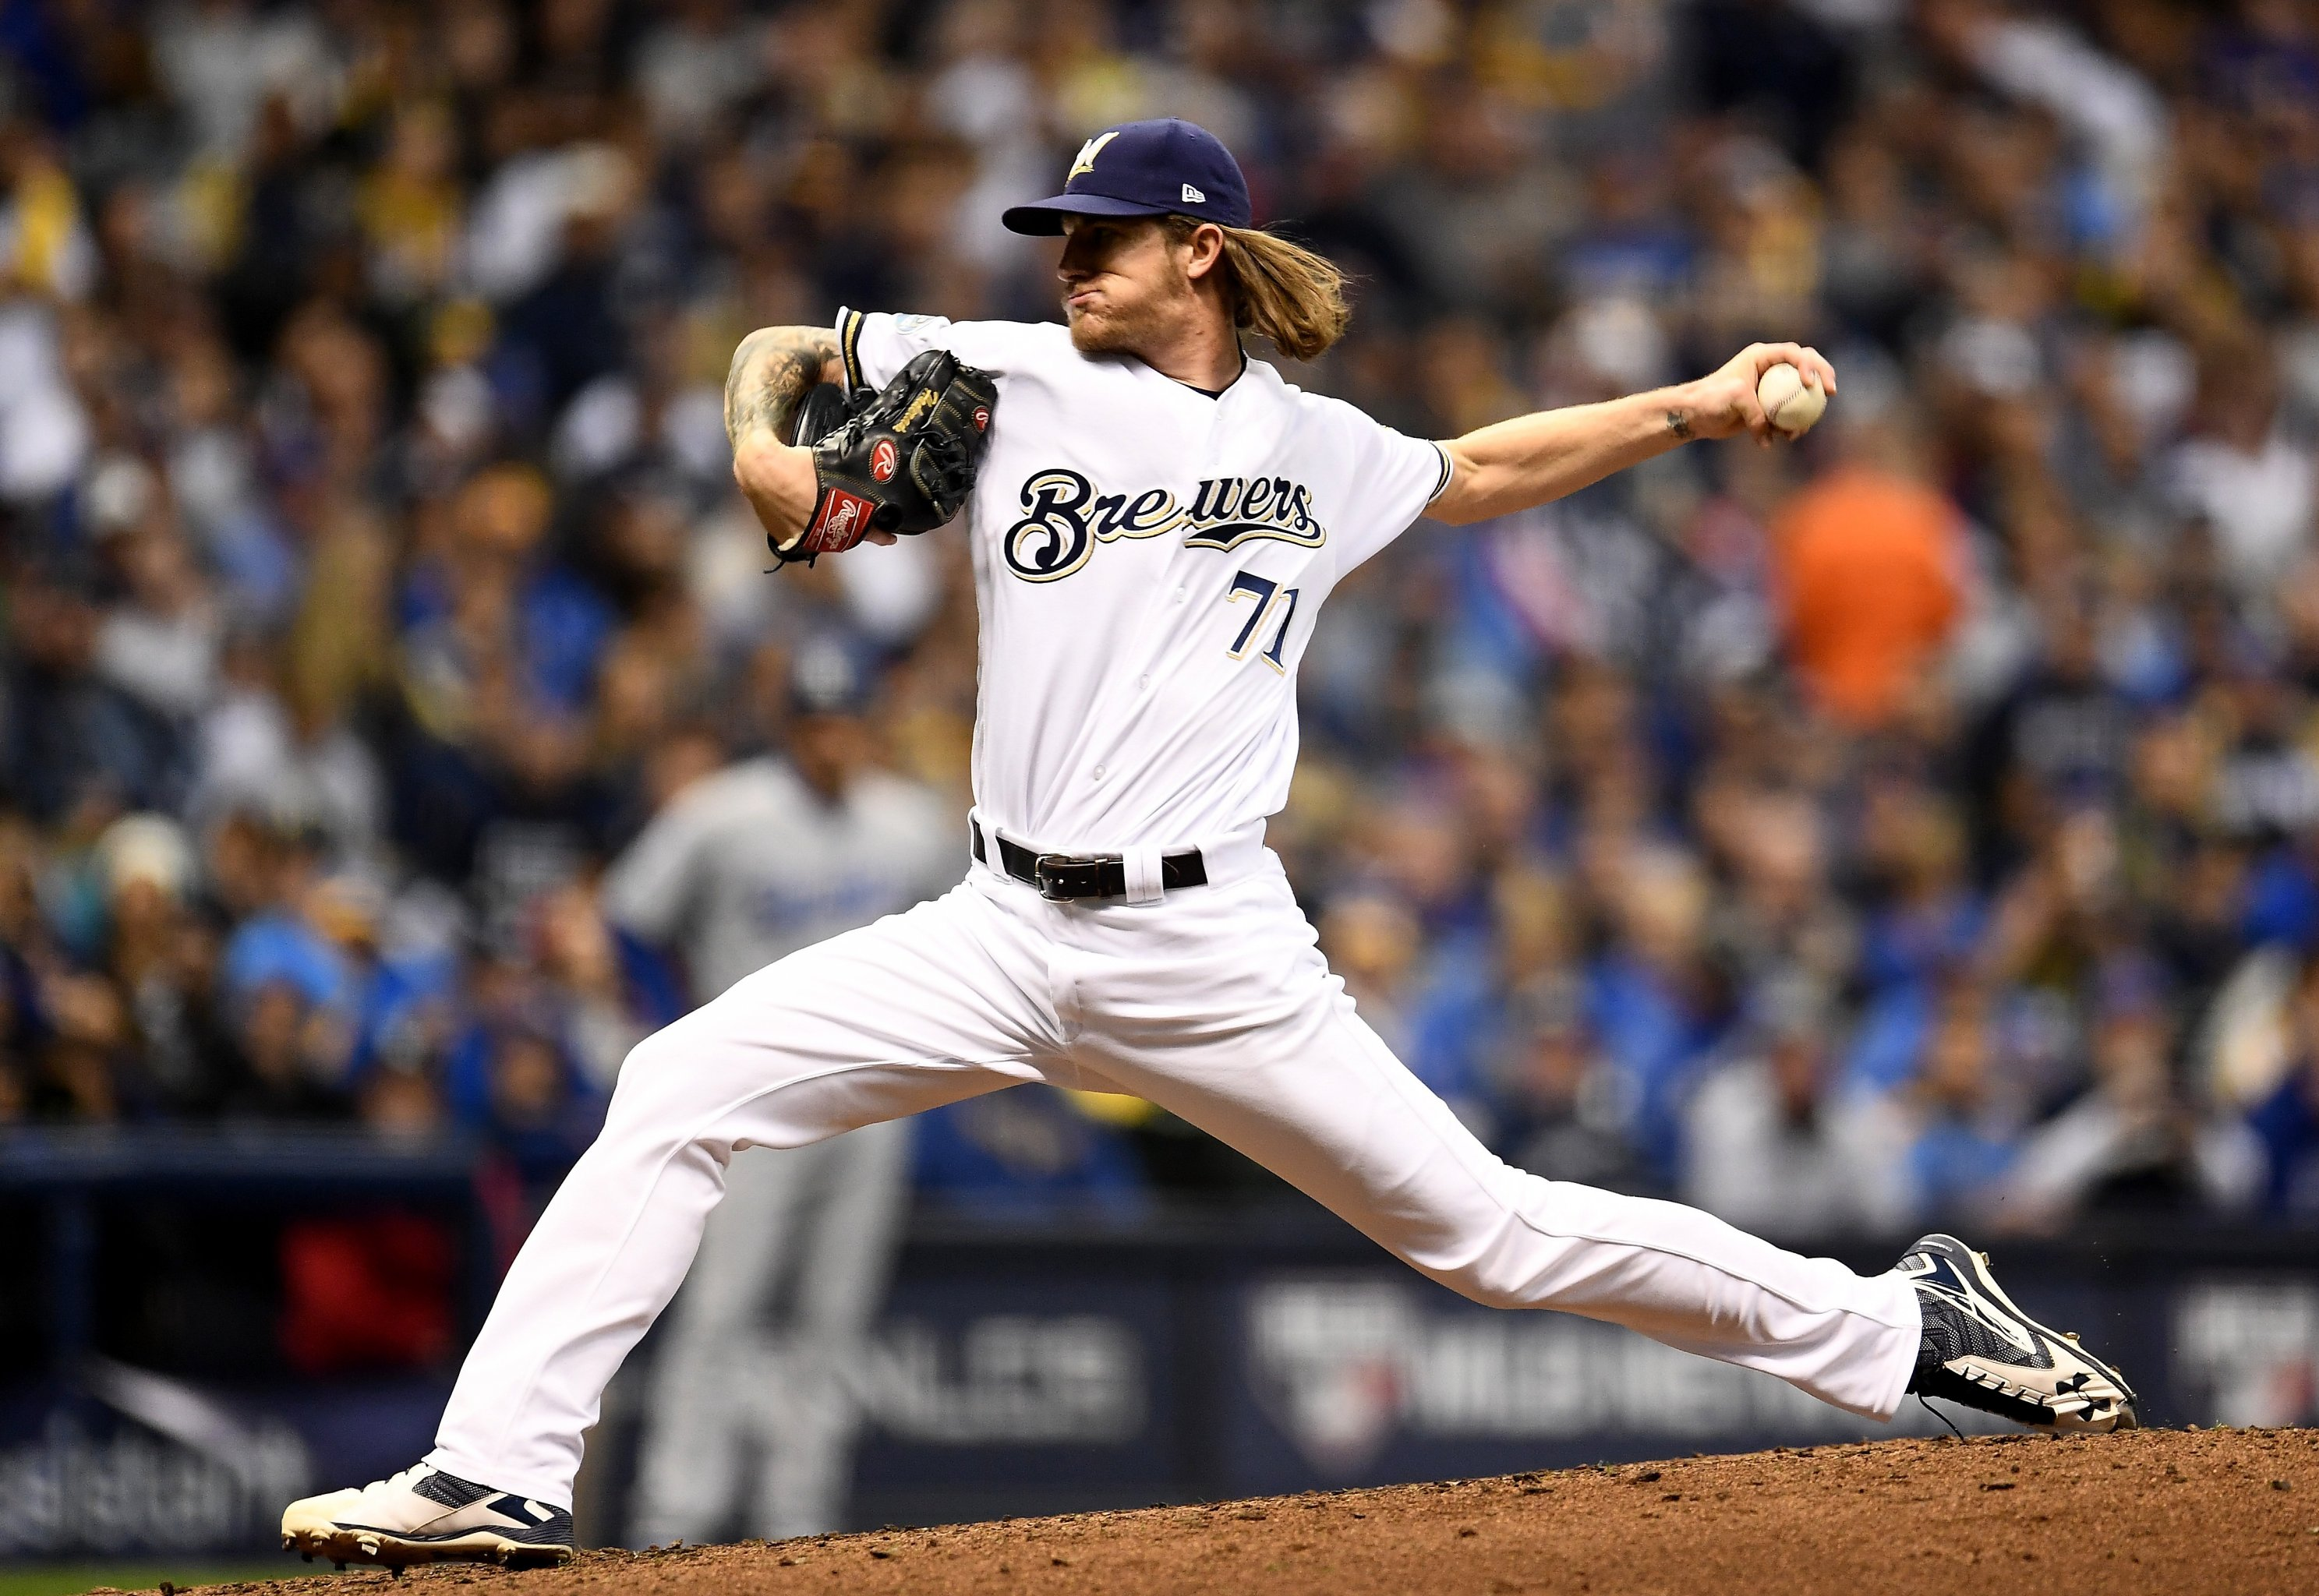Hip: (980, 809, 1263, 900)
LeftAnkle: (1822, 1177, 2175, 1434)
LeftElbow: (1443, 405, 1544, 548)
LeftKnee: (1413, 1066, 1547, 1353)
LeftShoulder: (1288, 347, 1426, 565)
RightAnkle: (277, 1399, 610, 1541)
RightElbow: (710, 280, 802, 398)
RightKnee: (582, 974, 777, 1221)
Torso: (1004, 428, 1256, 789)
